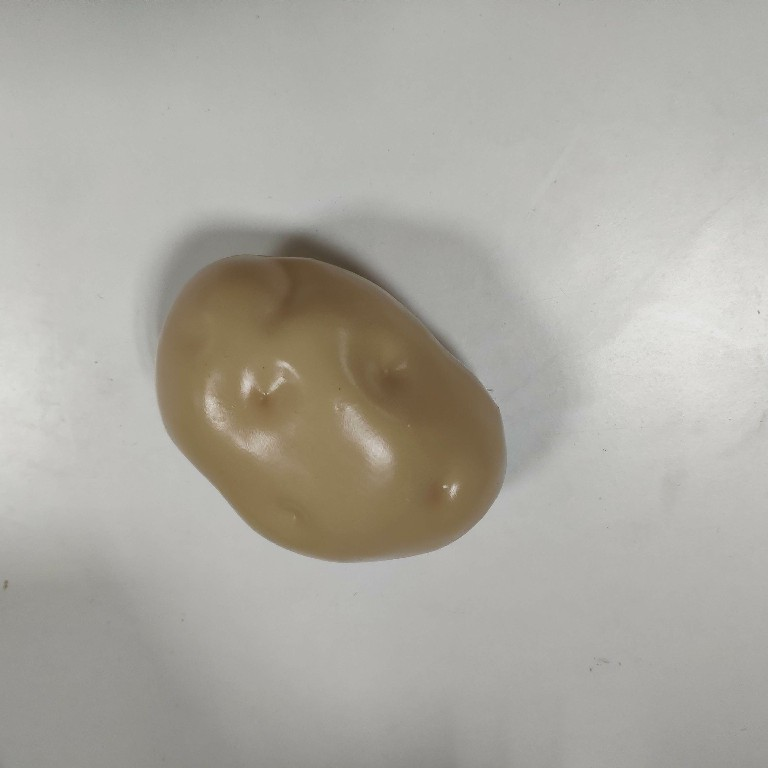fruit_potato: (151, 246, 511, 570)
